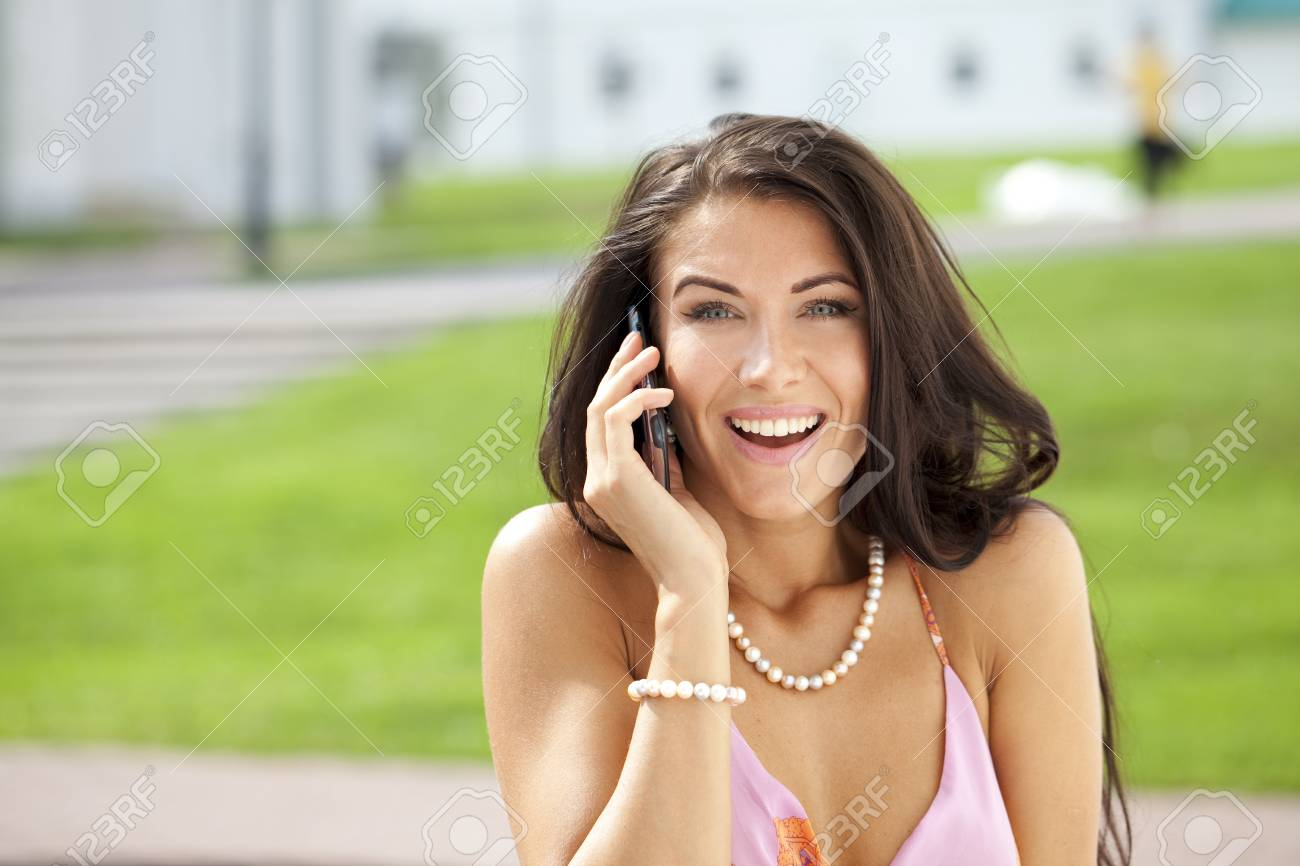phone: (582, 295, 690, 516)
talk: (575, 265, 870, 551)
